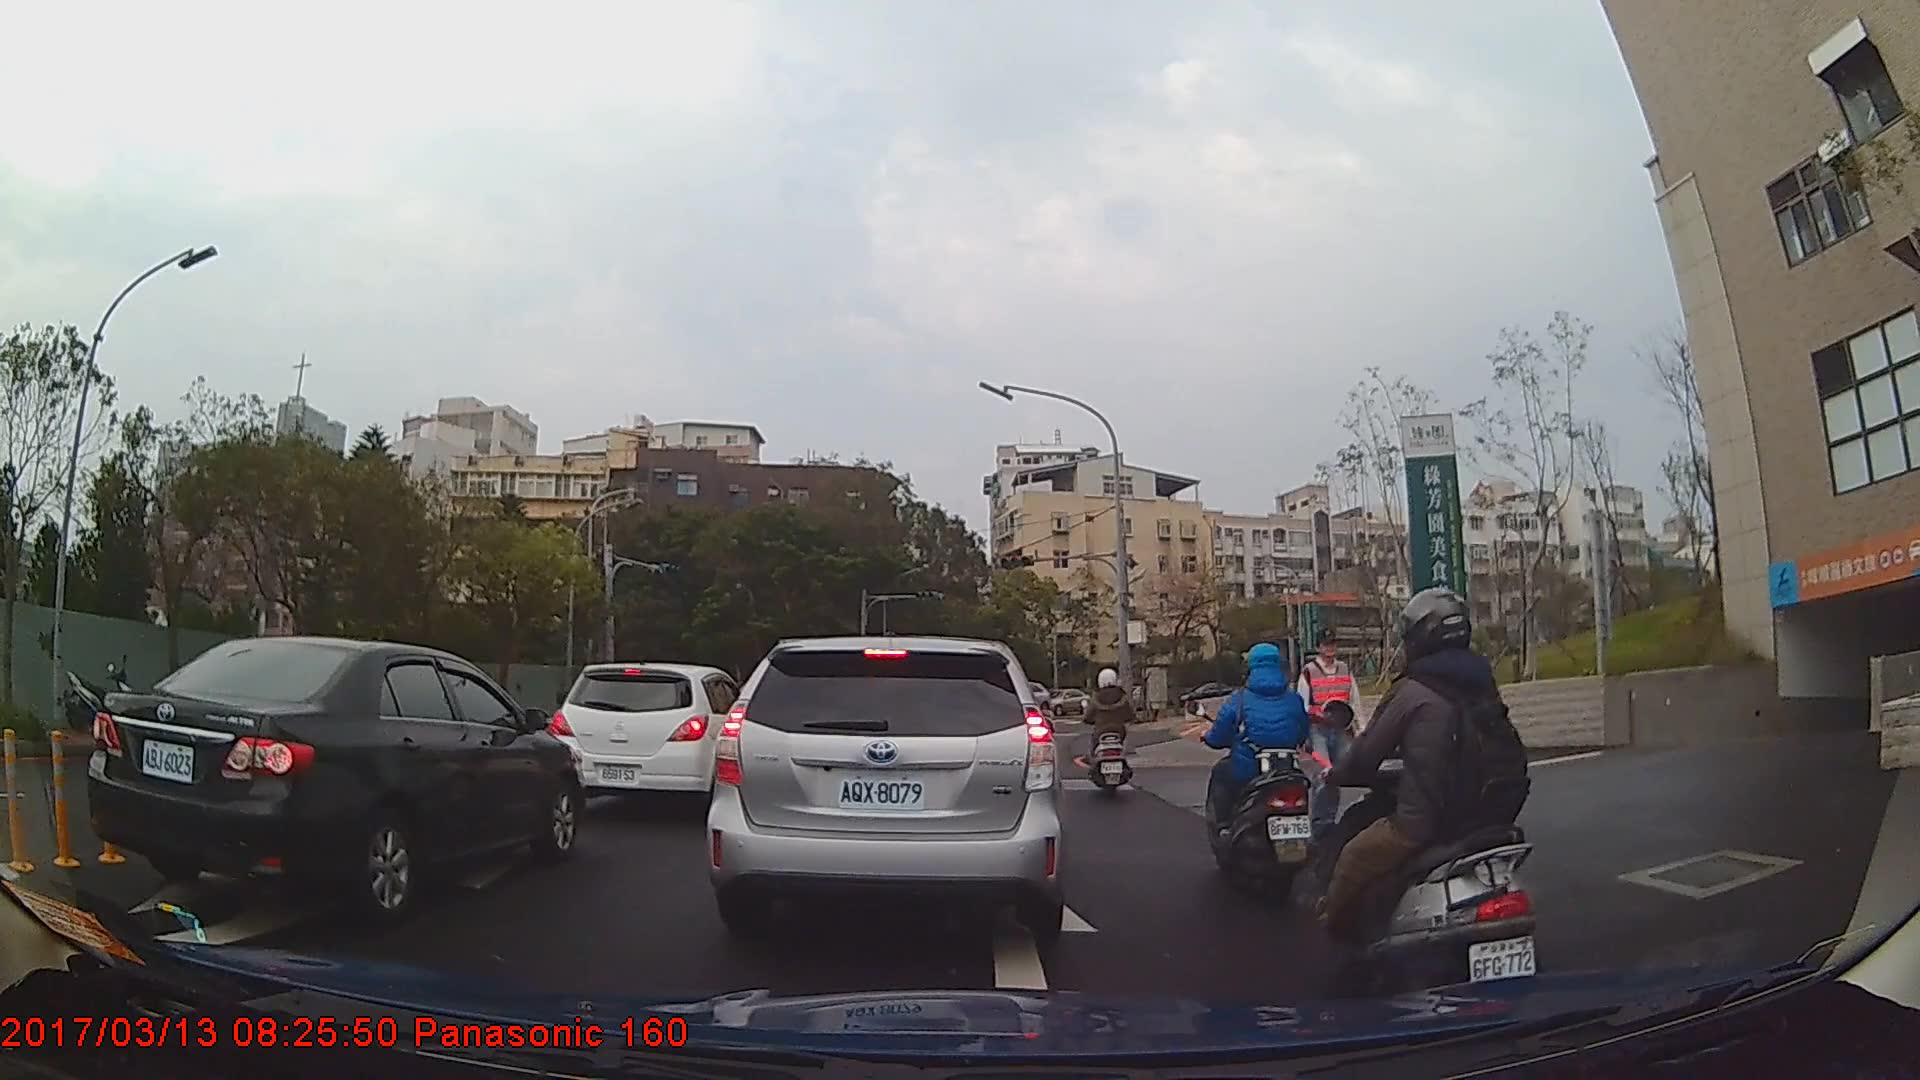pedestrian: (1288, 629, 1367, 848)
rider: (1306, 588, 1542, 1034), (1203, 640, 1321, 902), (1081, 670, 1138, 801)
vehicle: (85, 632, 581, 915), (705, 633, 1066, 942), (545, 662, 750, 820), (1175, 679, 1240, 712), (1049, 688, 1089, 717)
